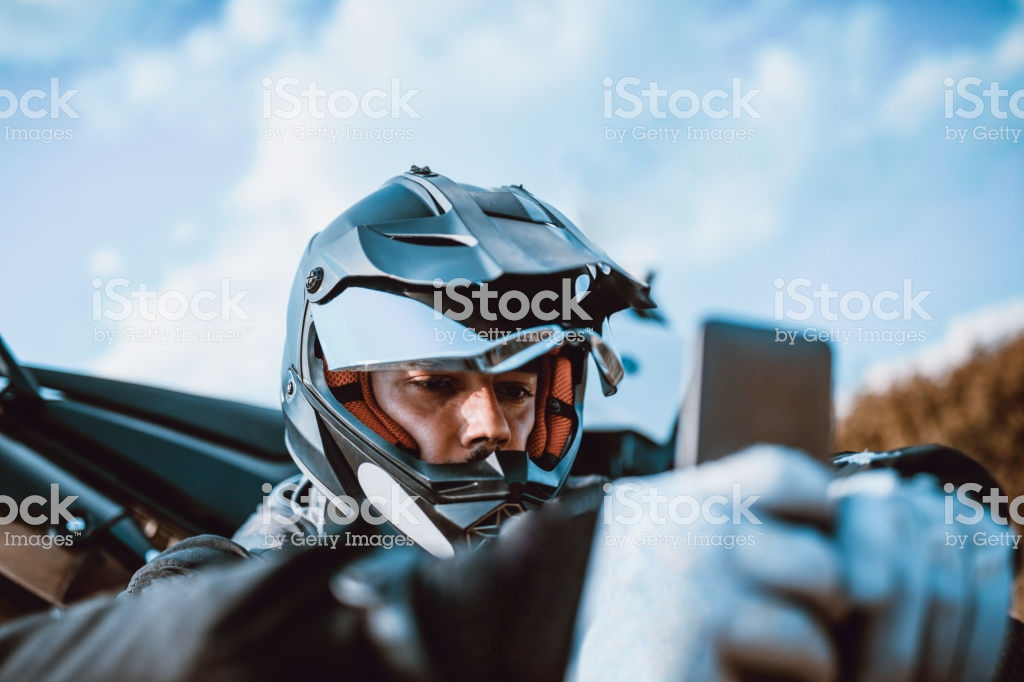helmet: (266, 189, 608, 549)
